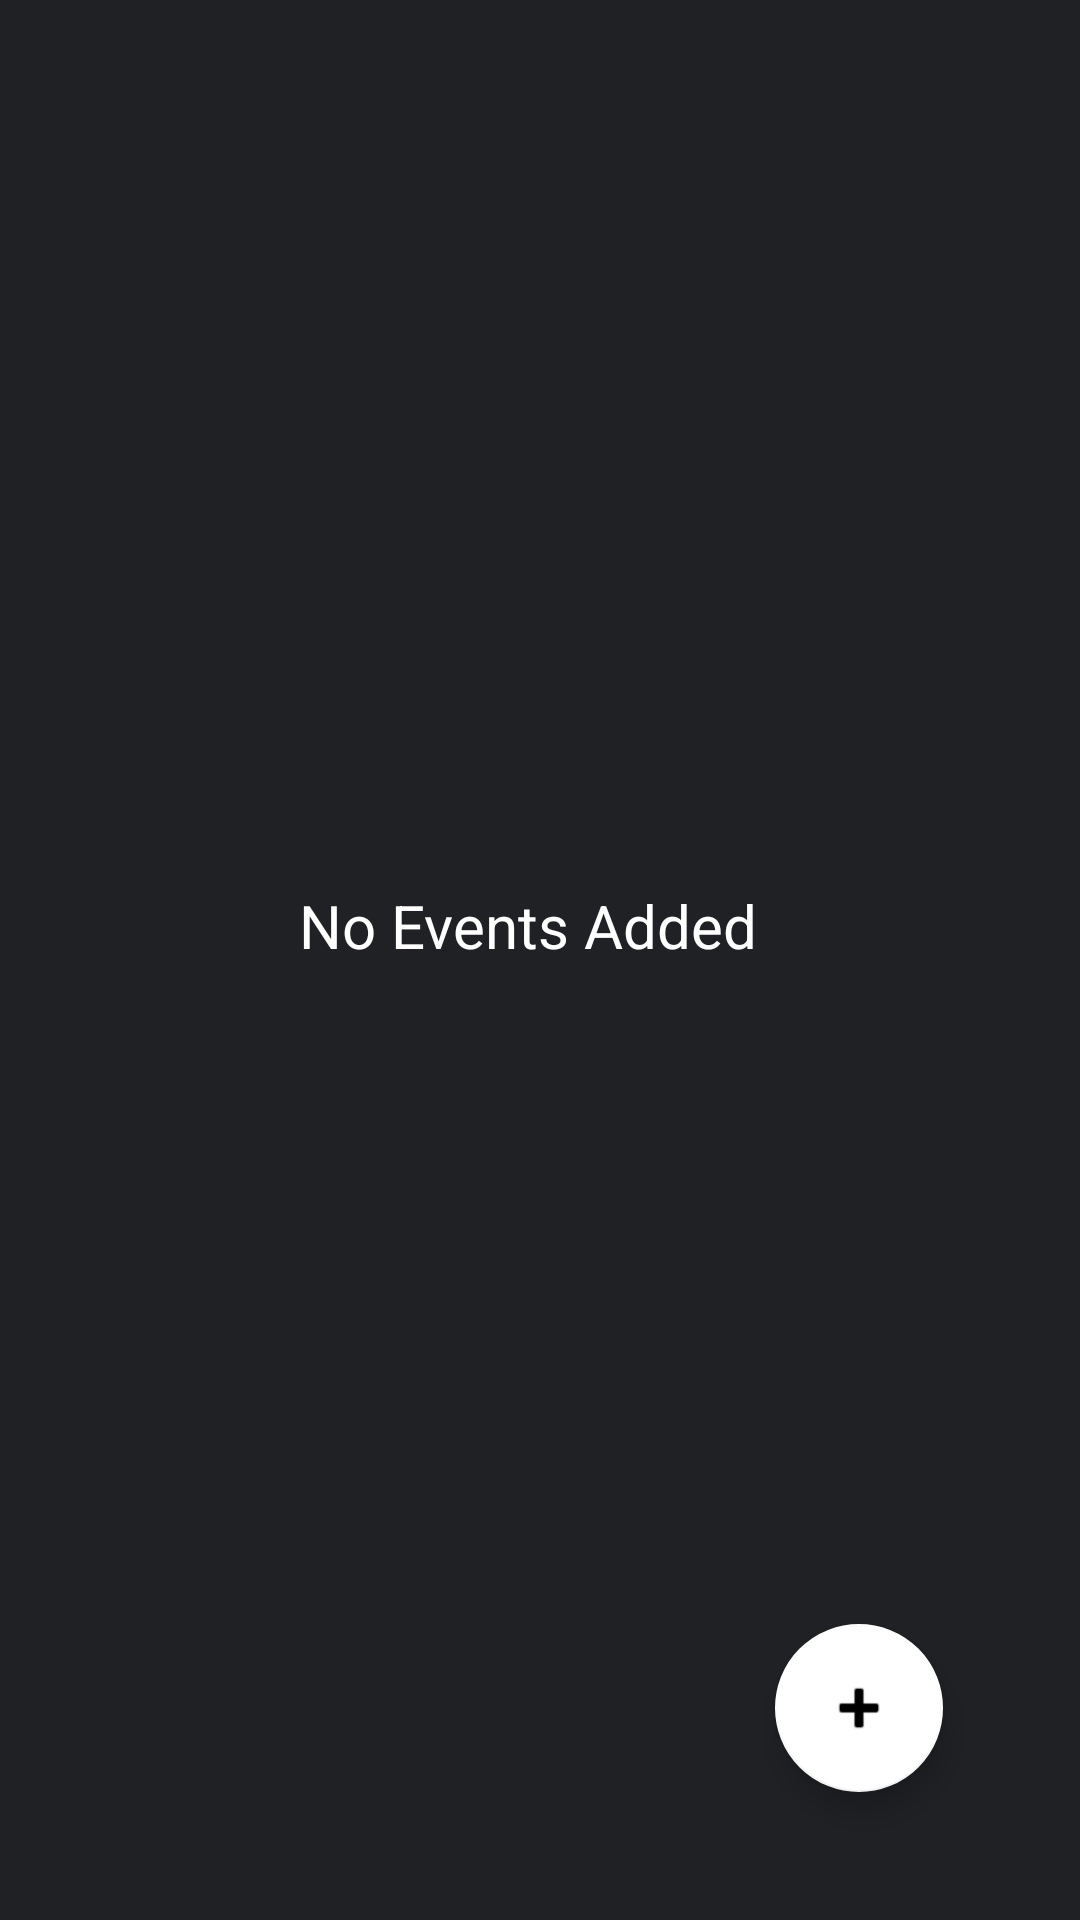

Locate icon controls on the screen. Image size 1080px×1920px, boxes as (x1, y1, x2, y2).
add: (775, 1624, 943, 1792)
